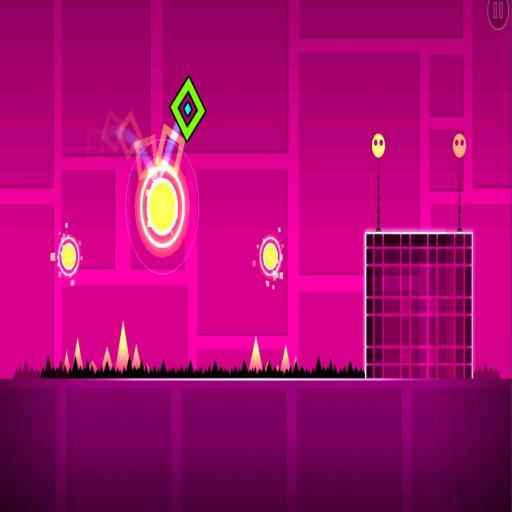block: (364, 232, 473, 382)
player: (170, 76, 206, 141)
spike: (116, 322, 128, 371), (250, 337, 262, 371), (75, 339, 83, 368), (102, 348, 112, 371), (281, 345, 289, 372), (133, 345, 140, 368), (65, 351, 69, 371), (293, 357, 299, 370), (23, 361, 29, 374), (91, 361, 97, 373), (265, 361, 271, 372), (483, 361, 488, 373), (294, 357, 298, 366), (145, 364, 149, 372), (275, 365, 279, 371), (489, 367, 493, 373)
